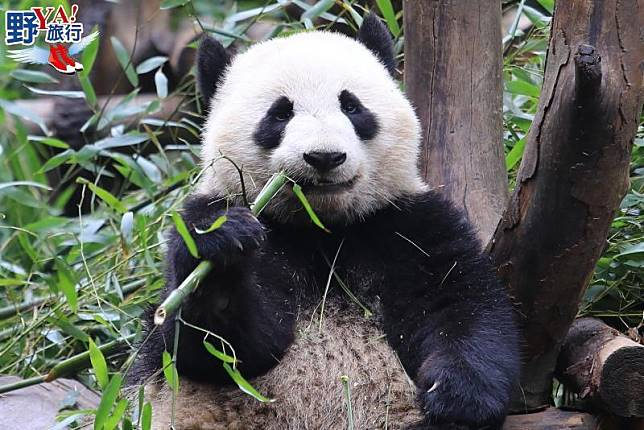panda: (118, 10, 519, 430)
